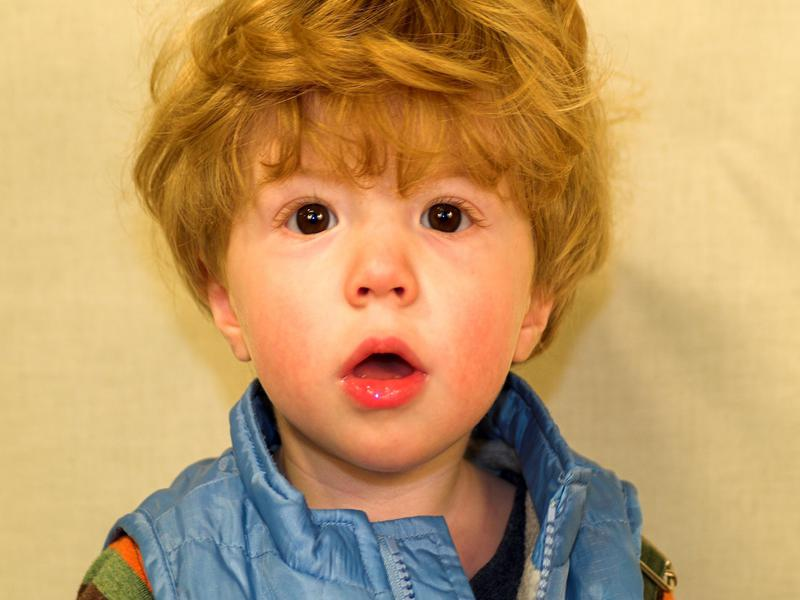person: (78, 1, 678, 600)
